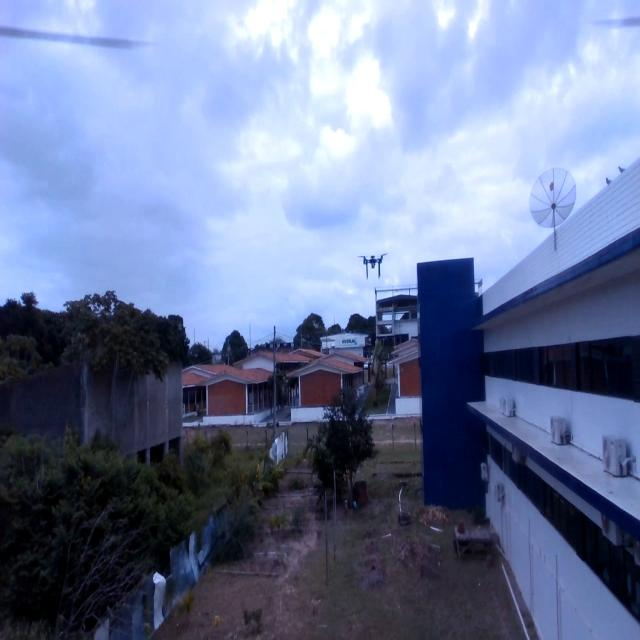-uav-: (356, 242, 391, 284)
